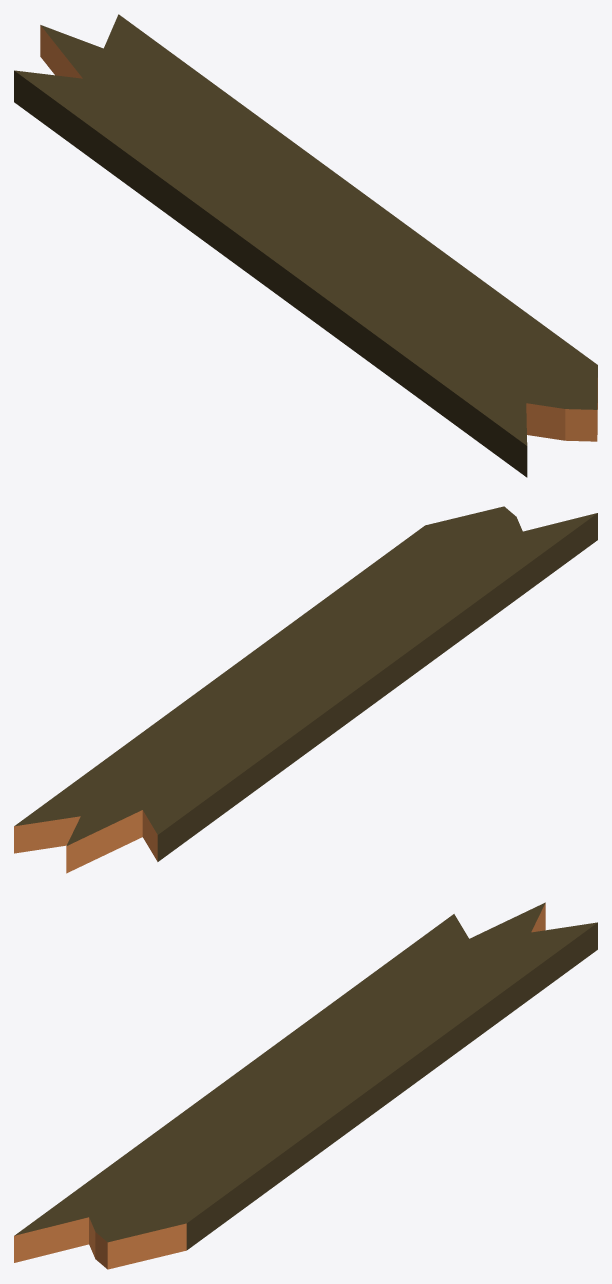
File: Debris_1.fbx
3 views of the same model, one above another, from view 1: azimuth 30°, elevation 25°; view 2: azimuth 150°, elevation 25°; view 3: azimuth 330°, elevation 25° (orthographic). The views are drawn at different scales.
Parts seen in each view (by area): view 1: Debris.001; view 2: Debris.001; view 3: Debris.001.
Part boxes in pixels (bbox=[...]): Debris.001: bbox=[14, 14, 597, 477]; Debris.001: bbox=[14, 506, 597, 873]; Debris.001: bbox=[14, 902, 597, 1269].
Bounding box in the file's own units: 7.87 × 1.75 × 55.4.
